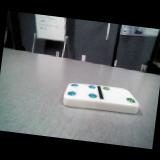domino: (63, 83, 138, 114)
